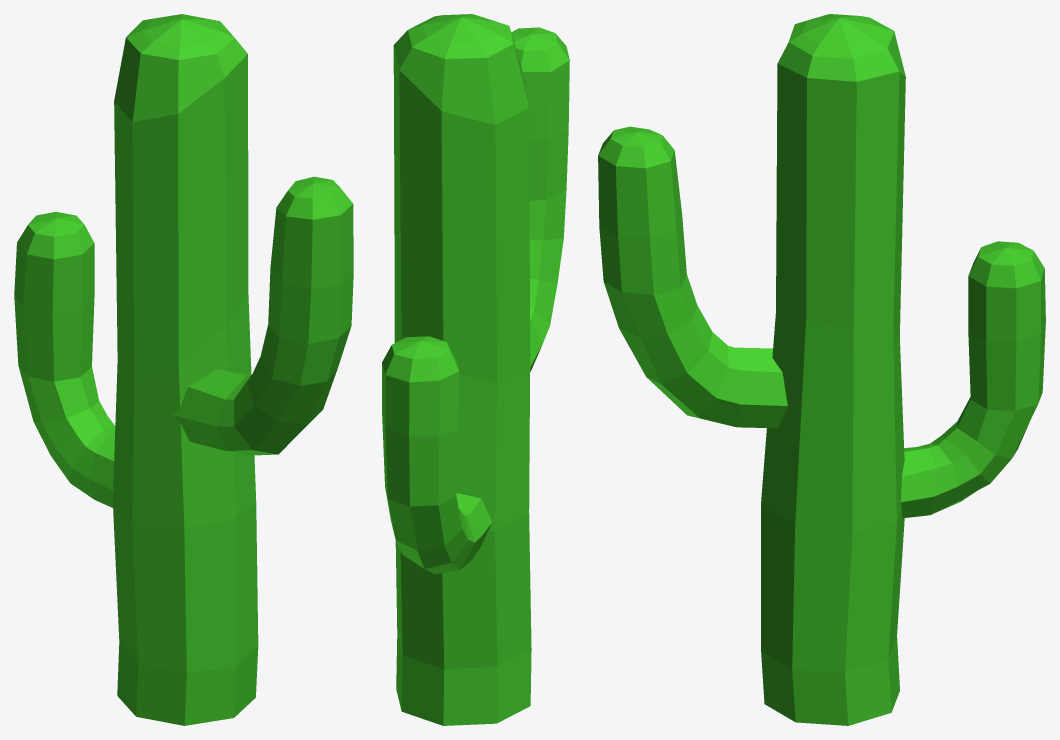
File: cactus.glb
3 views of the same model, side by side, from view 1: azimuth 30°, elevation 25°; view 2: azimuth 150°, elevation 25°; view 3: azimuth 270°, elevation 25° (orthographic).
Parts seen in each view (by area): view 1: Body, upperArm, lowerArm; view 2: Body, lowerArm, upperArm; view 3: Body, upperArm, lowerArm.
Boxes of the visible parts, left/top/right/bottom form: Body: left=112, top=14, right=258, bottom=725; upperArm: left=172, top=176, right=353, bottom=455; lowerArm: left=14, top=211, right=115, bottom=507; Body: left=393, top=14, right=531, bottom=725; lowerArm: left=382, top=336, right=492, bottom=573; upperArm: left=511, top=27, right=569, bottom=372; Body: left=761, top=14, right=905, bottom=725; upperArm: left=598, top=126, right=787, bottom=428; lowerArm: left=900, top=241, right=1045, bottom=518.
Size of the model in its own units: 1.87 by 8.39 by 5.02.
